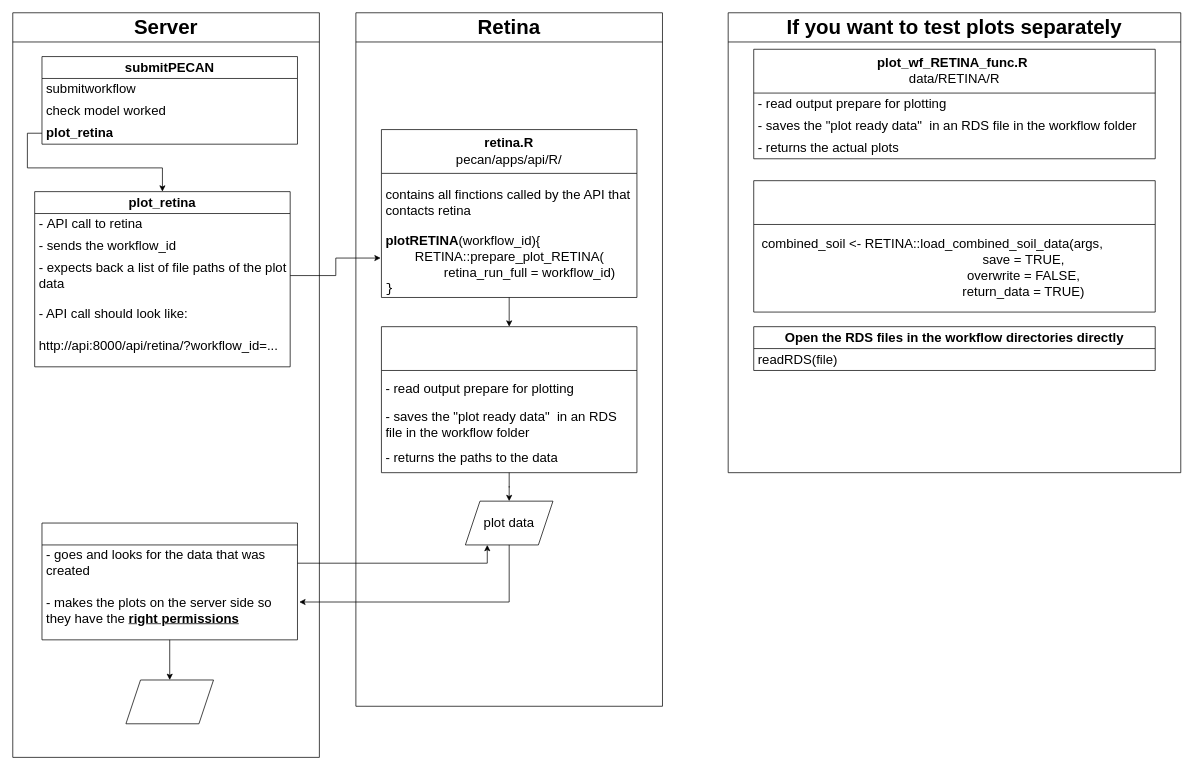
Some shapes in this 1194 by 770 pixel diagram are drawn without their labels. Here are the shapes that lost their labels. From the top down, the box of each, then its label:
(753, 180, 1155, 312): Load in the data with a different set of workflow IDs or variables
(381, 326, 637, 473): prepare_plot_RETINA.R data/RETINA/R
(41, 522, 297, 640): plot_rds_retina
(125, 679, 214, 724): plots! FINALLY
